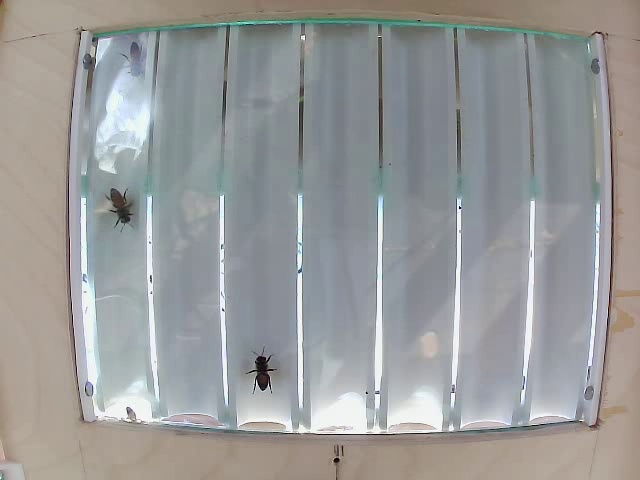bee: (251, 342, 278, 391), (105, 185, 131, 233)
